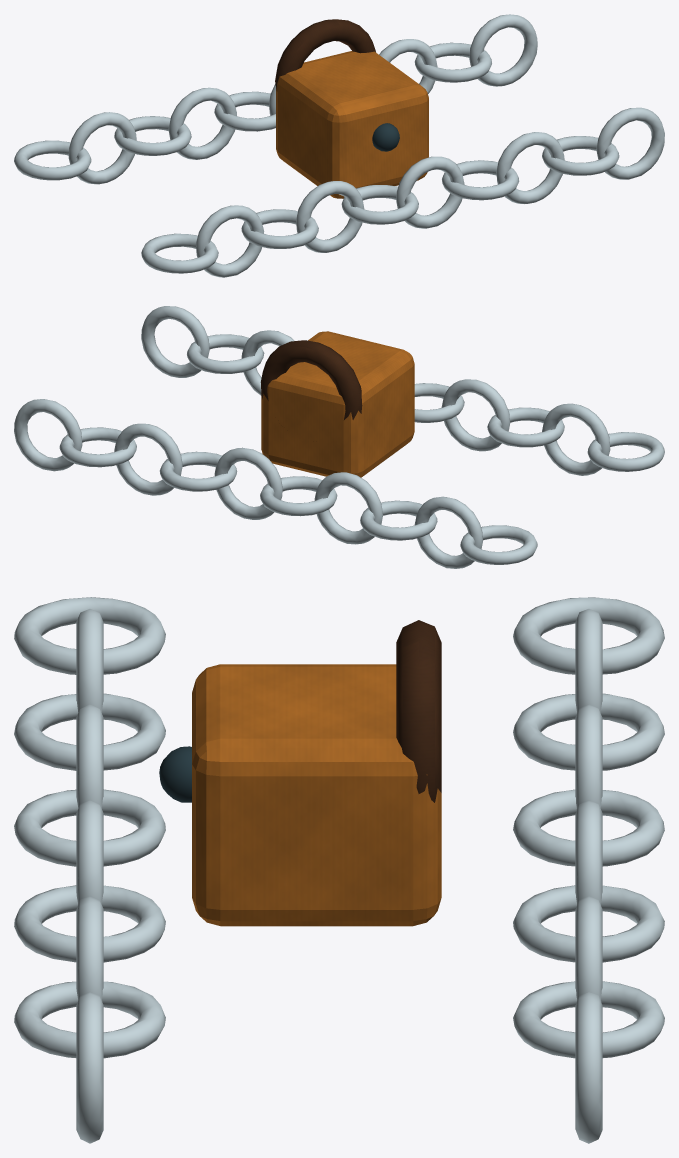
Rendered from relic_seal_low.glb.
3 views of the same model, one above another, from view 1: azimuth 30°, elevation 25°; view 2: azimuth 150°, elevation 25°; view 3: azimuth 270°, elevation 25° (orthographic). The views are drawn at different scales.
Parts seen in each view (by area): view 1: Antique_silver, Brushed_gold, Patinated_bronze, Obsidian; view 2: Antique_silver, Brushed_gold, Patinated_bronze; view 3: Antique_silver, Brushed_gold, Patinated_bronze, Obsidian.
Boxes of the visible parts, bbox=[...] form: Antique_silver: bbox=[14, 14, 664, 277]; Brushed_gold: bbox=[276, 51, 428, 198]; Patinated_bronze: bbox=[275, 19, 375, 91]; Obsidian: bbox=[372, 123, 399, 151]; Antique_silver: bbox=[14, 306, 664, 568]; Brushed_gold: bbox=[261, 331, 414, 477]; Patinated_bronze: bbox=[260, 340, 362, 419]; Antique_silver: bbox=[14, 597, 664, 1143]; Brushed_gold: bbox=[192, 664, 441, 926]; Patinated_bronze: bbox=[396, 620, 441, 802]; Obsidian: bbox=[159, 746, 191, 802].
Bounding box in the file's own units: 1.03 × 0.287 × 0.5741.
4 materials, 2 textured.
